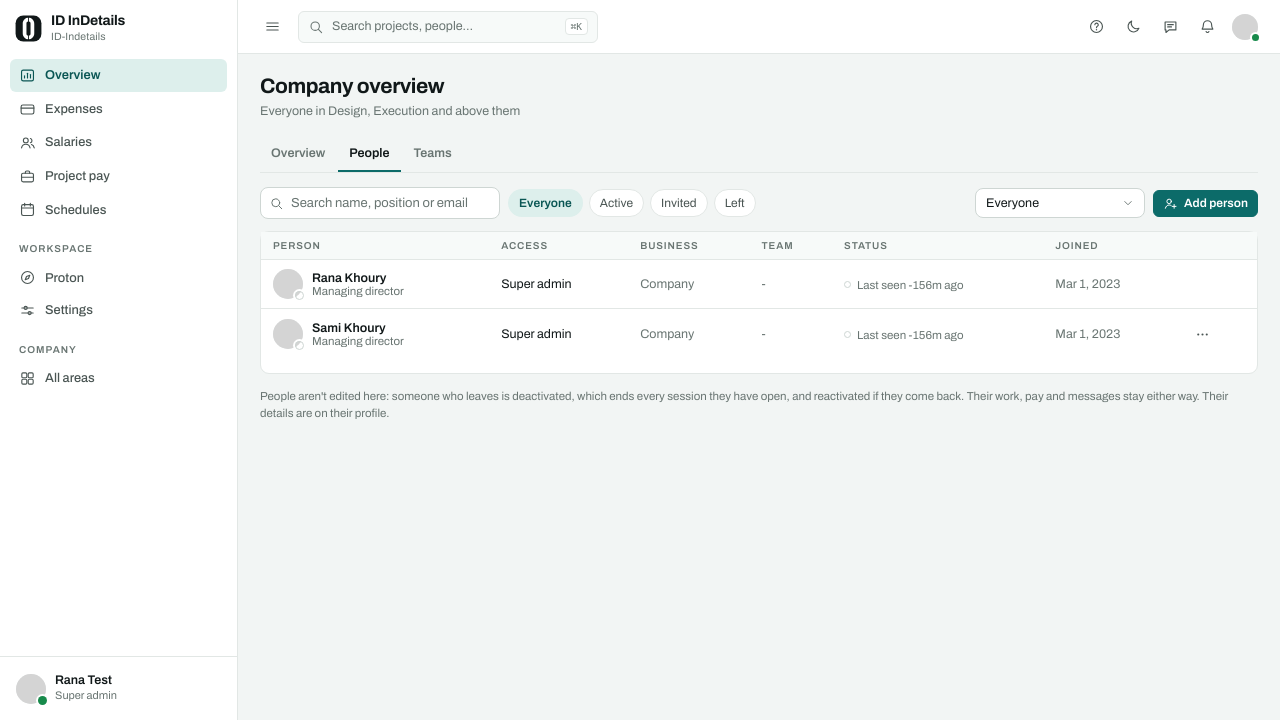
the company's people › changes another super admin's sign-in address, saying next to it when the address is taken
The image size is (1280, 720).
Click the button named "More actions": (1202, 334) top-left (1186, 318), bottom-right (1218, 350)
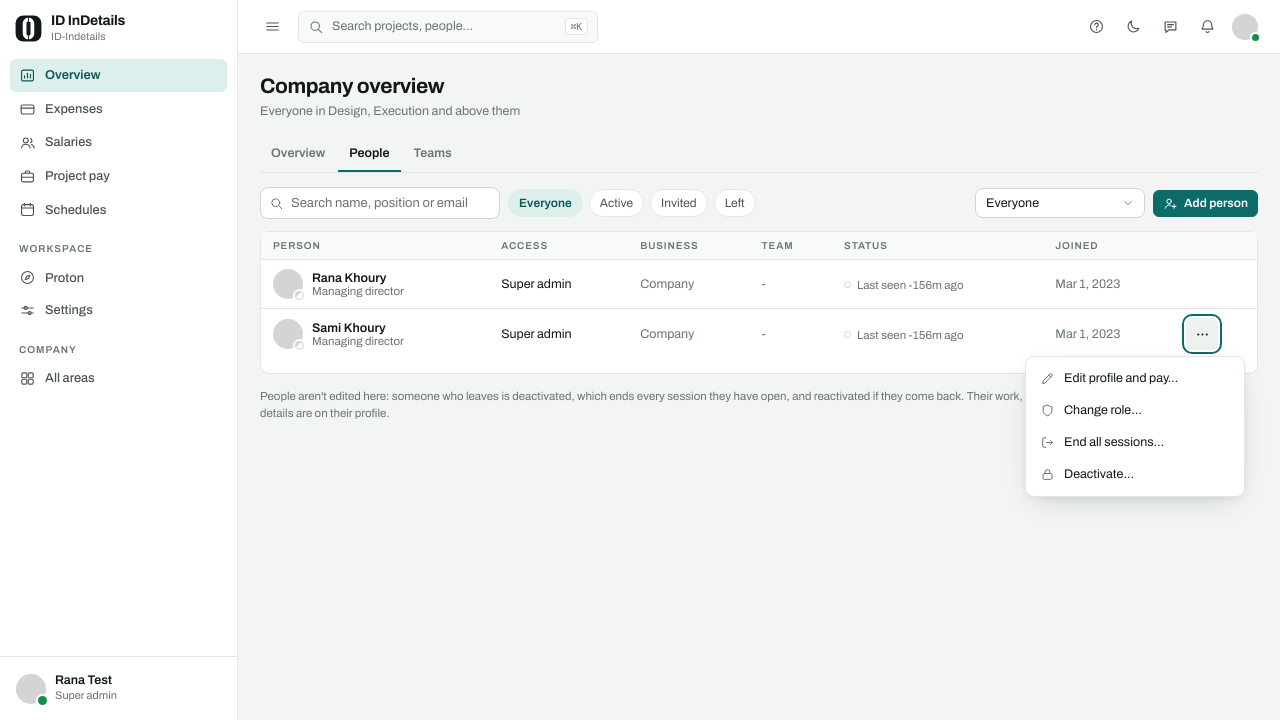
Click the button "Edit profile and pay…": (1135, 378) top-left (1031, 362), bottom-right (1239, 394)
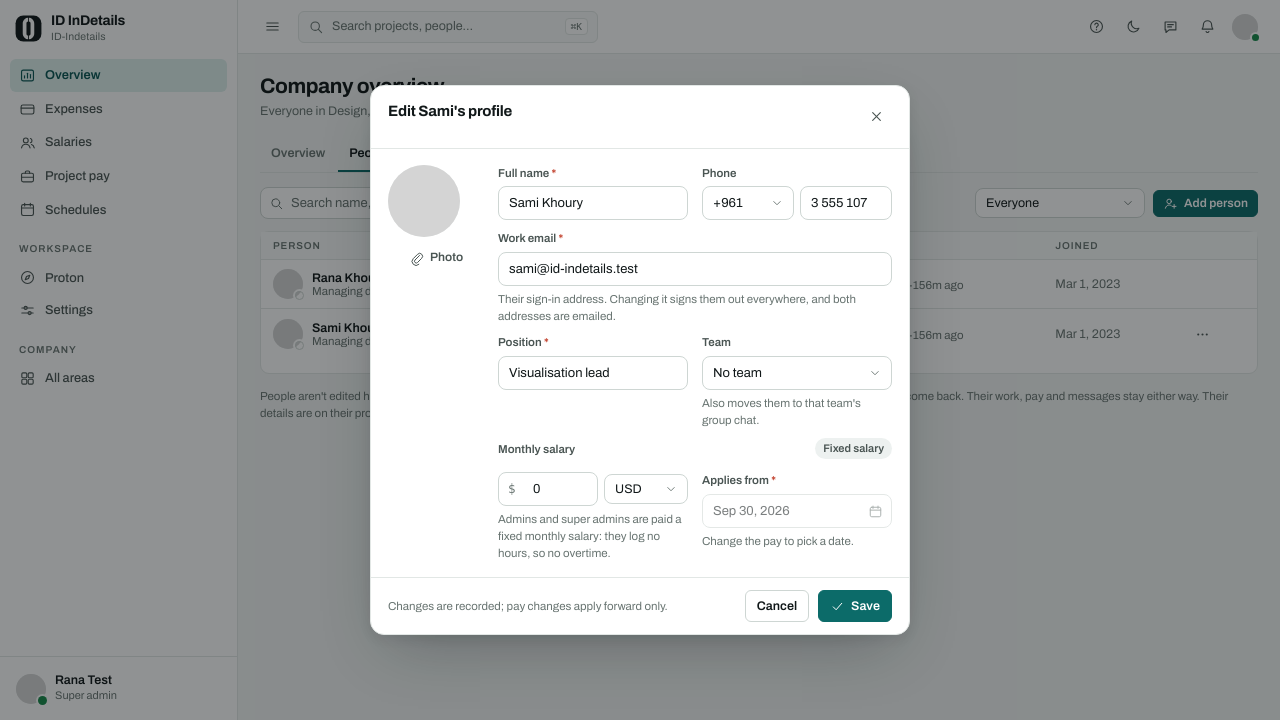
Now the text "Changing it signs them out everywhere, and both addresses are emailed" is shown, box top-left (498, 293), bottom-right (856, 322)
Replace the text in the field labelled "Work email" with "nadia@id-indetails.test": (695, 269) top-left (498, 252), bottom-right (892, 286)
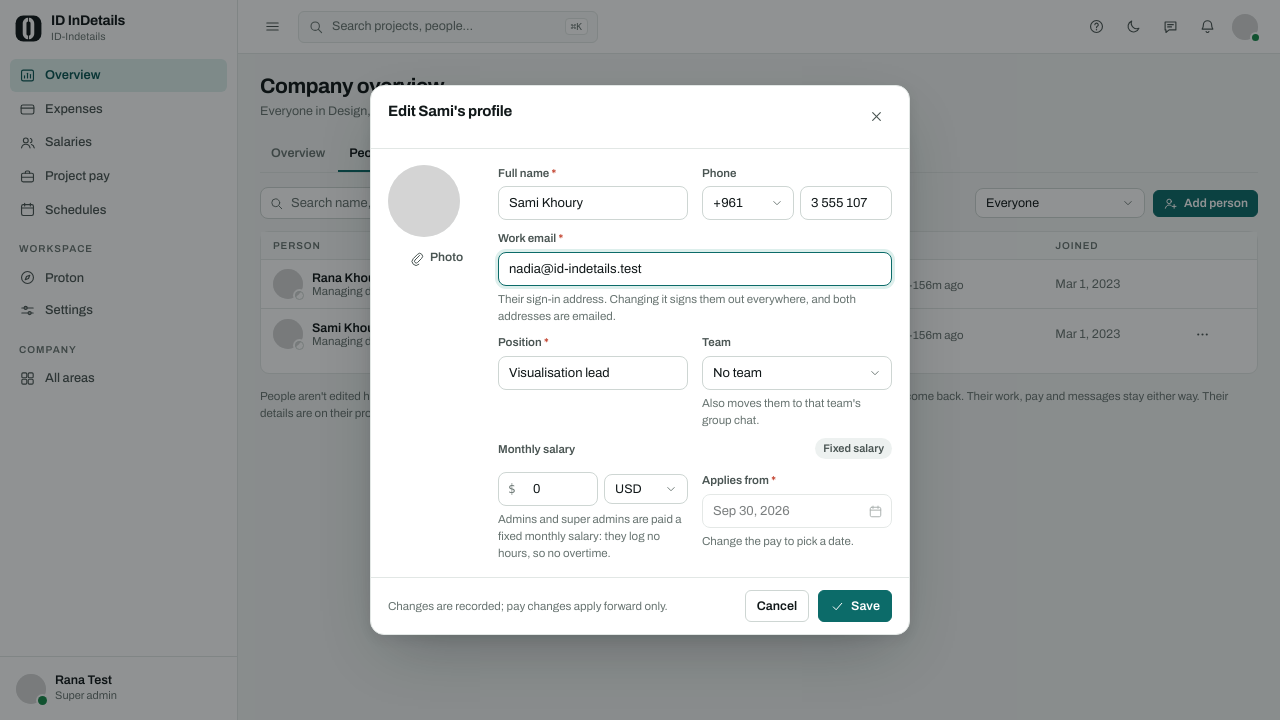
Click the button "Save": (855, 606) top-left (818, 590), bottom-right (892, 622)
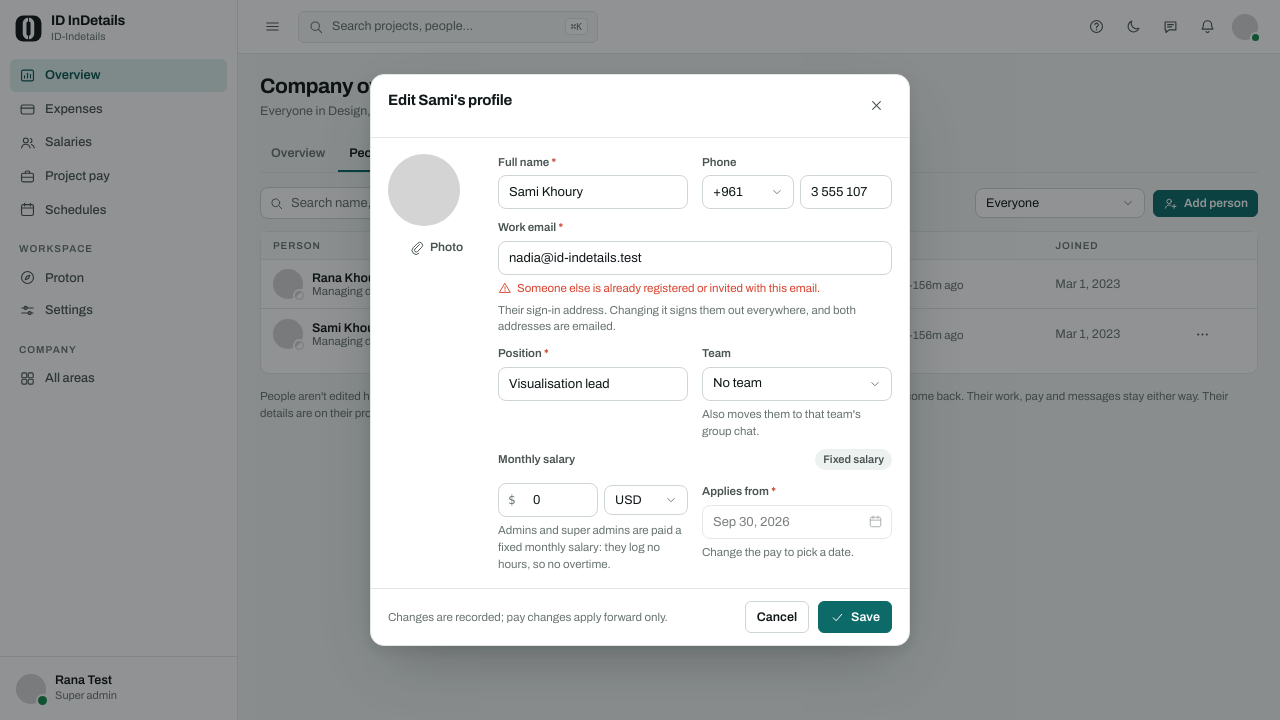
Now the text "Someone else is already registered or invited with this email." is shown, box top-left (517, 280), bottom-right (820, 297)
Replace the text in the field labelled "Work email" with "Sami.Khoury@id-indetails.test": (695, 258) top-left (498, 241), bottom-right (892, 275)
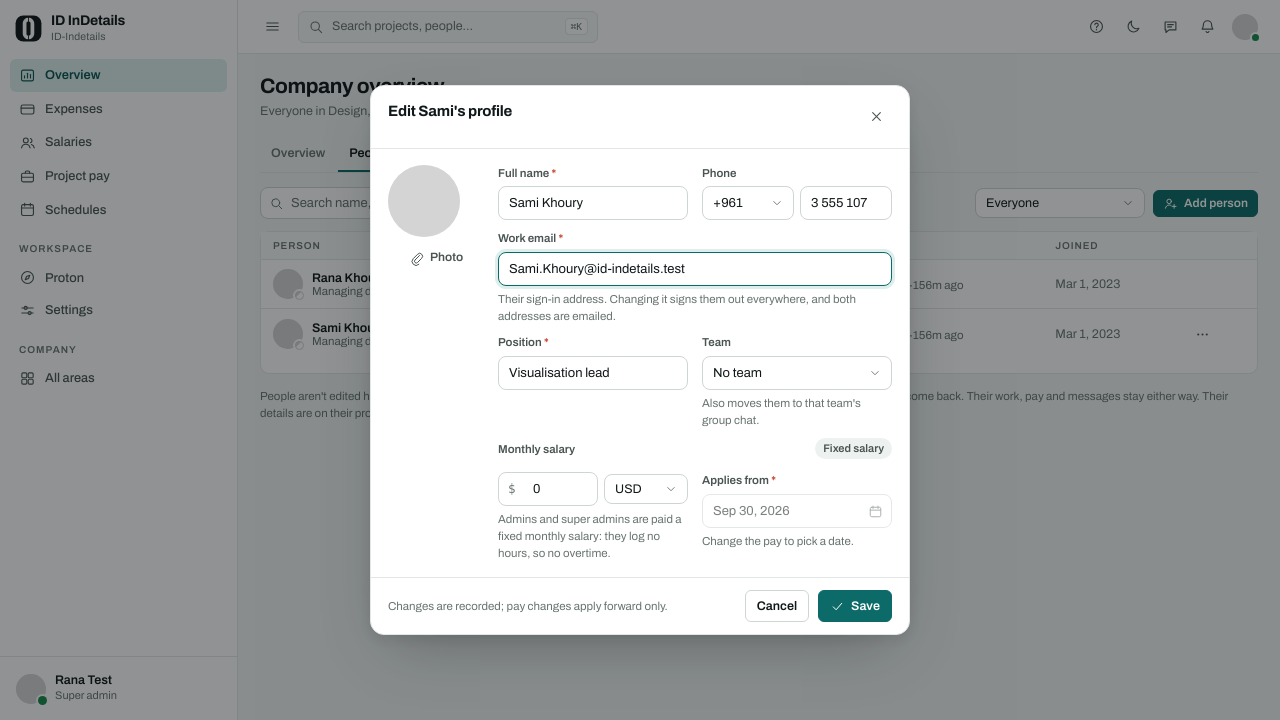
Expected: the text "Someone else is already registered or invited with this email." is not shown
Click the button "Save": (855, 606) top-left (818, 590), bottom-right (892, 622)
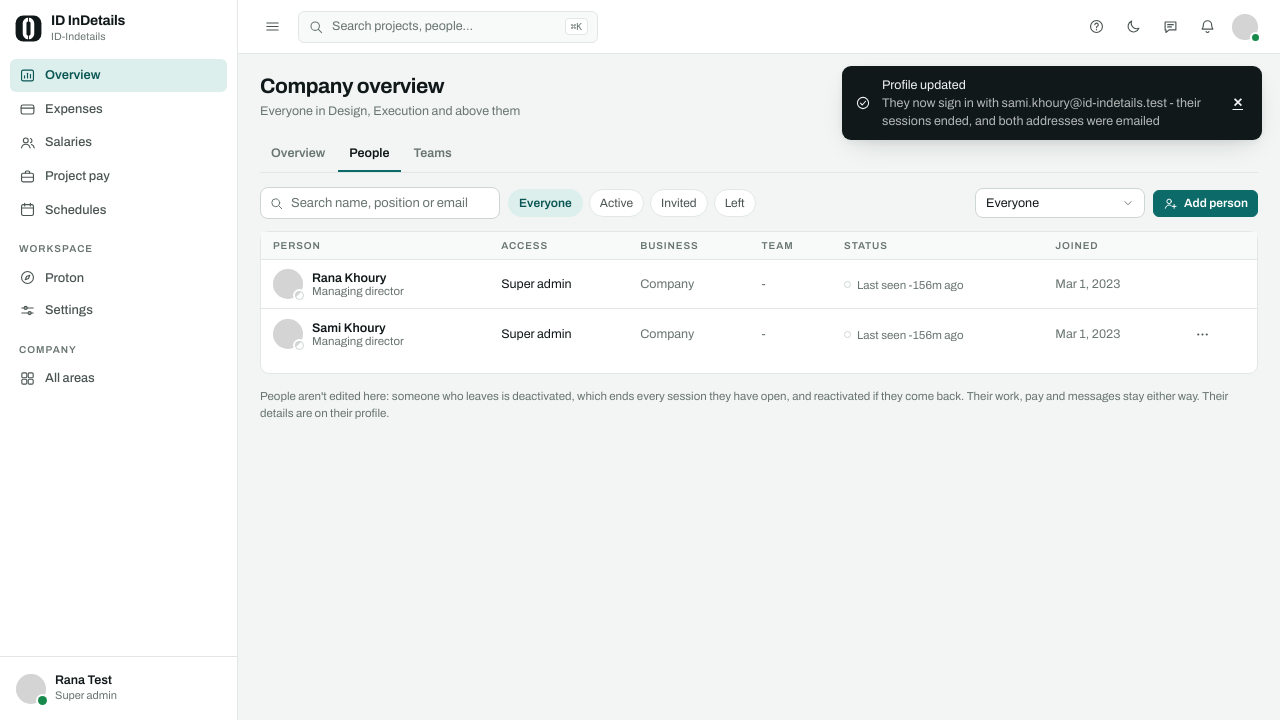
Now the dialog is gone
Now the text "They now sign in with sami.khoury@id-indetails.test" is shown, box top-left (882, 96), bottom-right (1201, 128)
